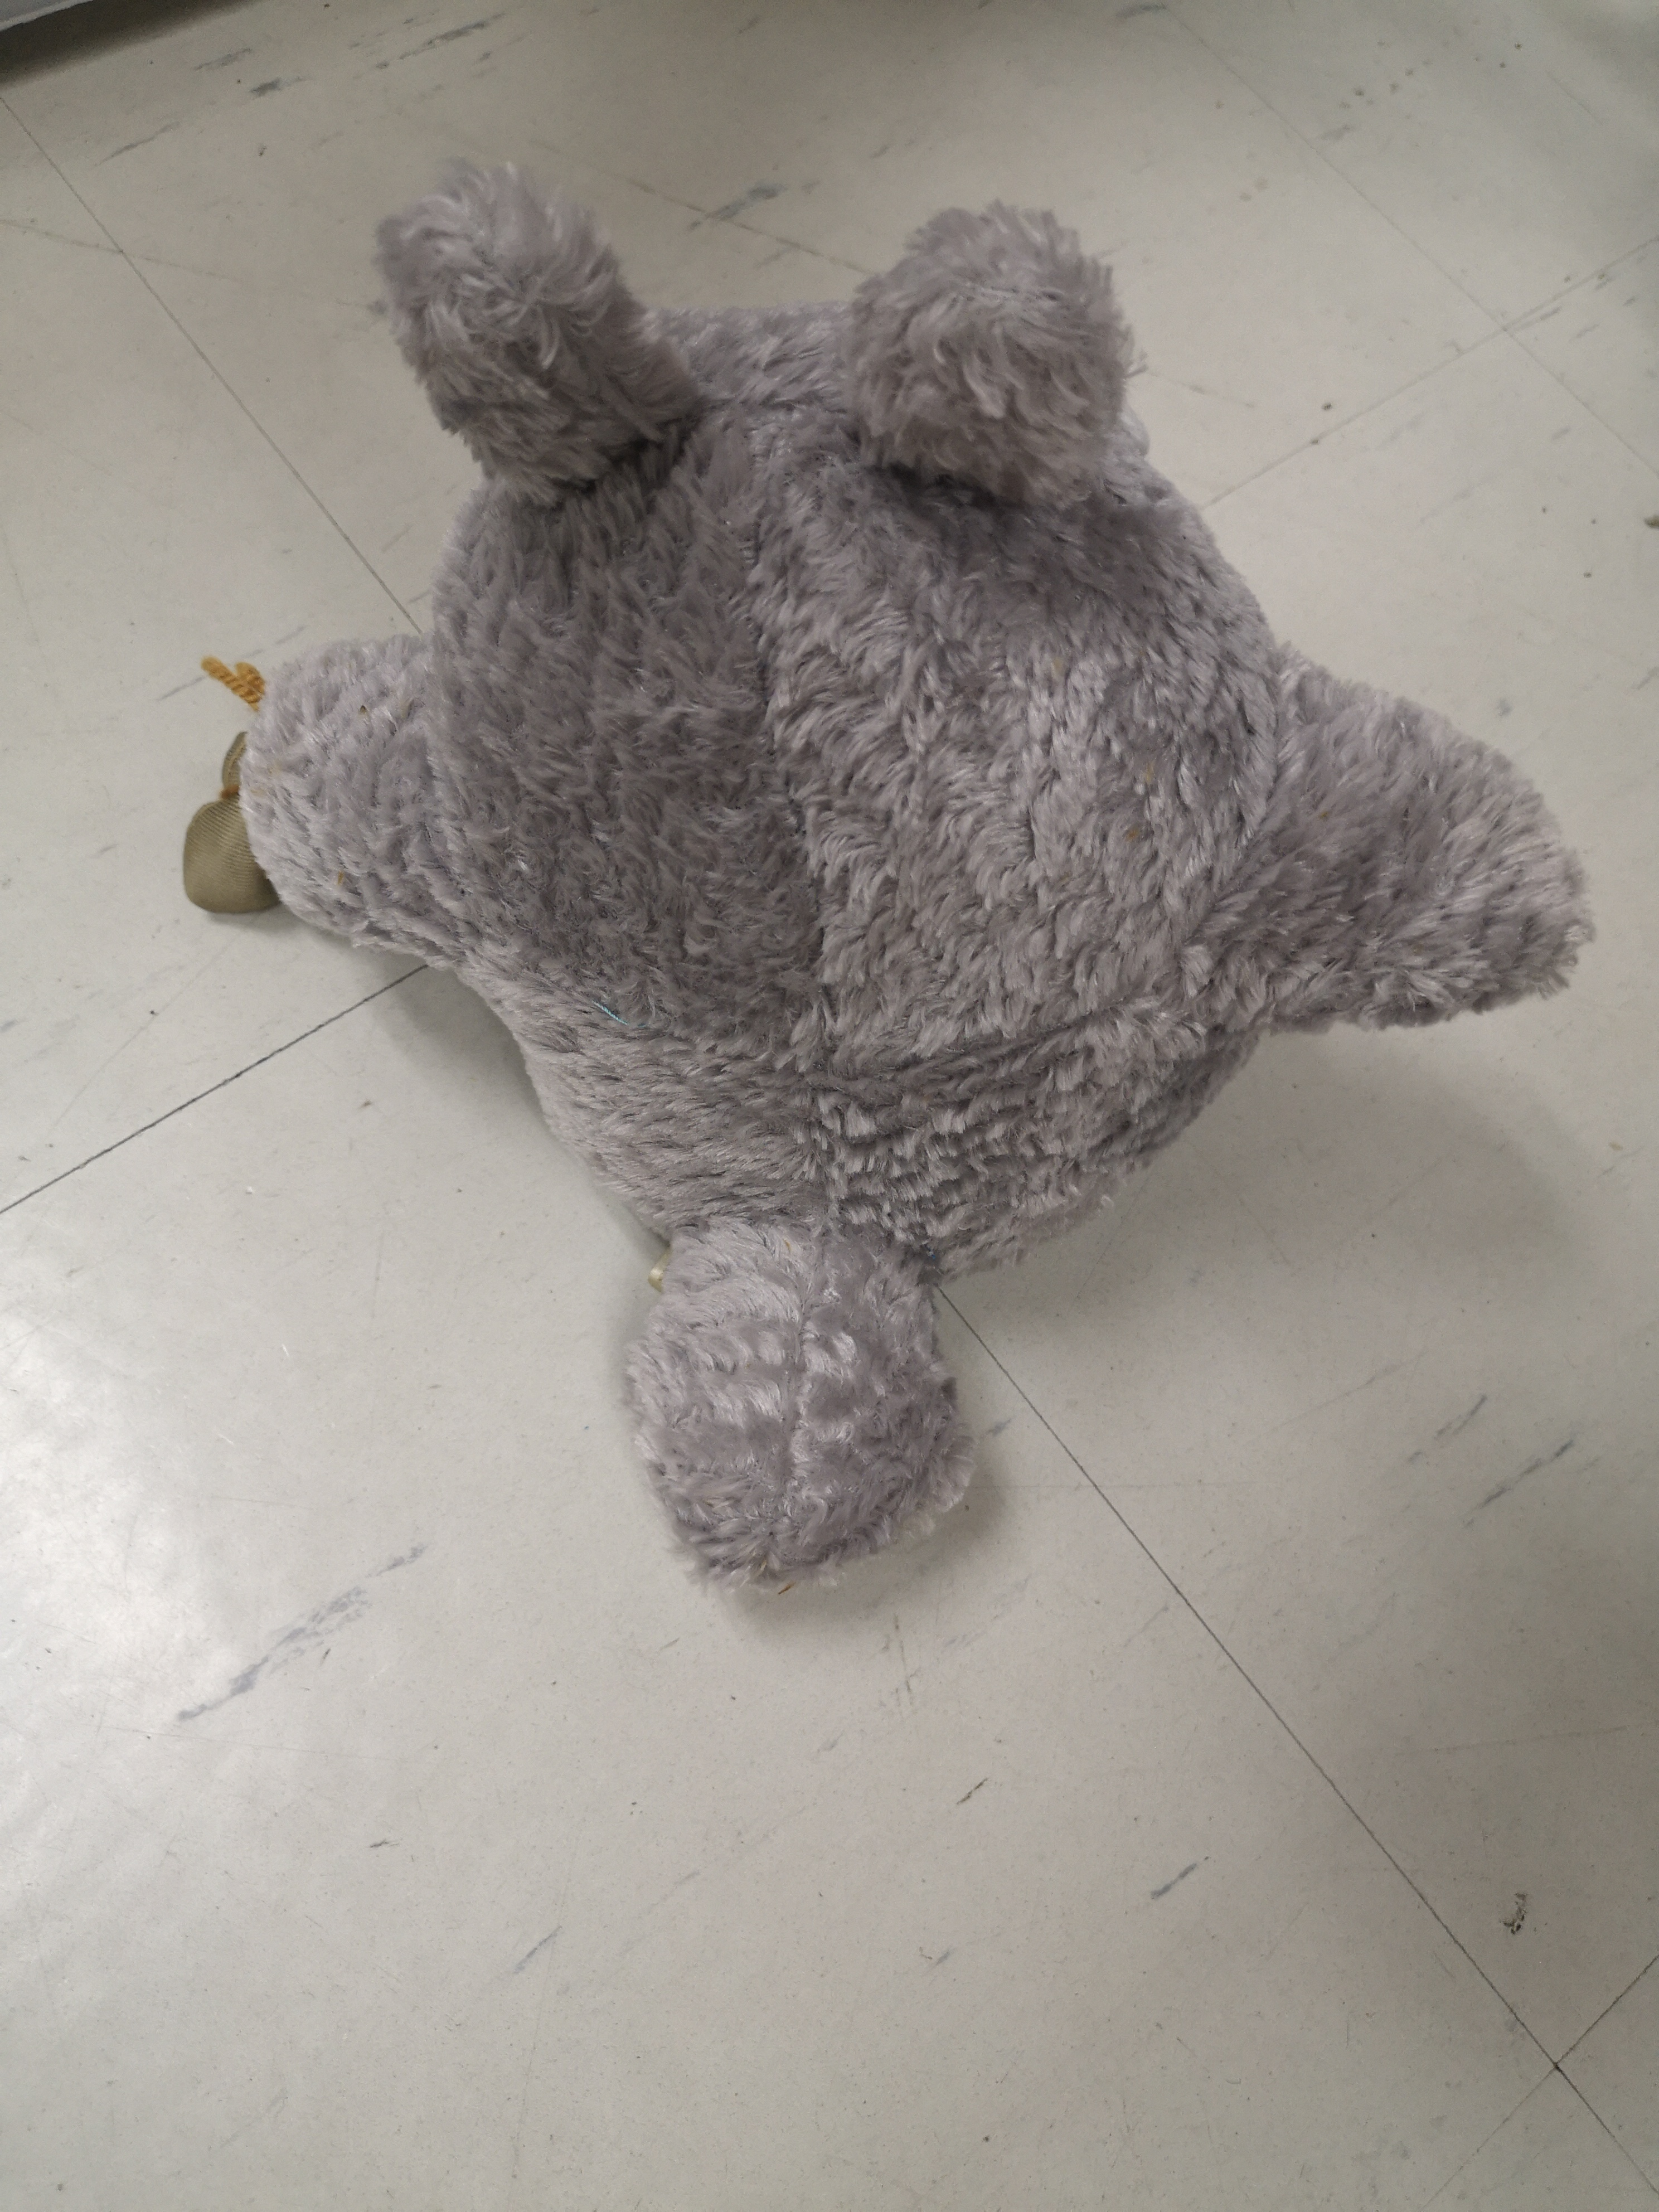totoro: (155, 127, 1610, 1615)
